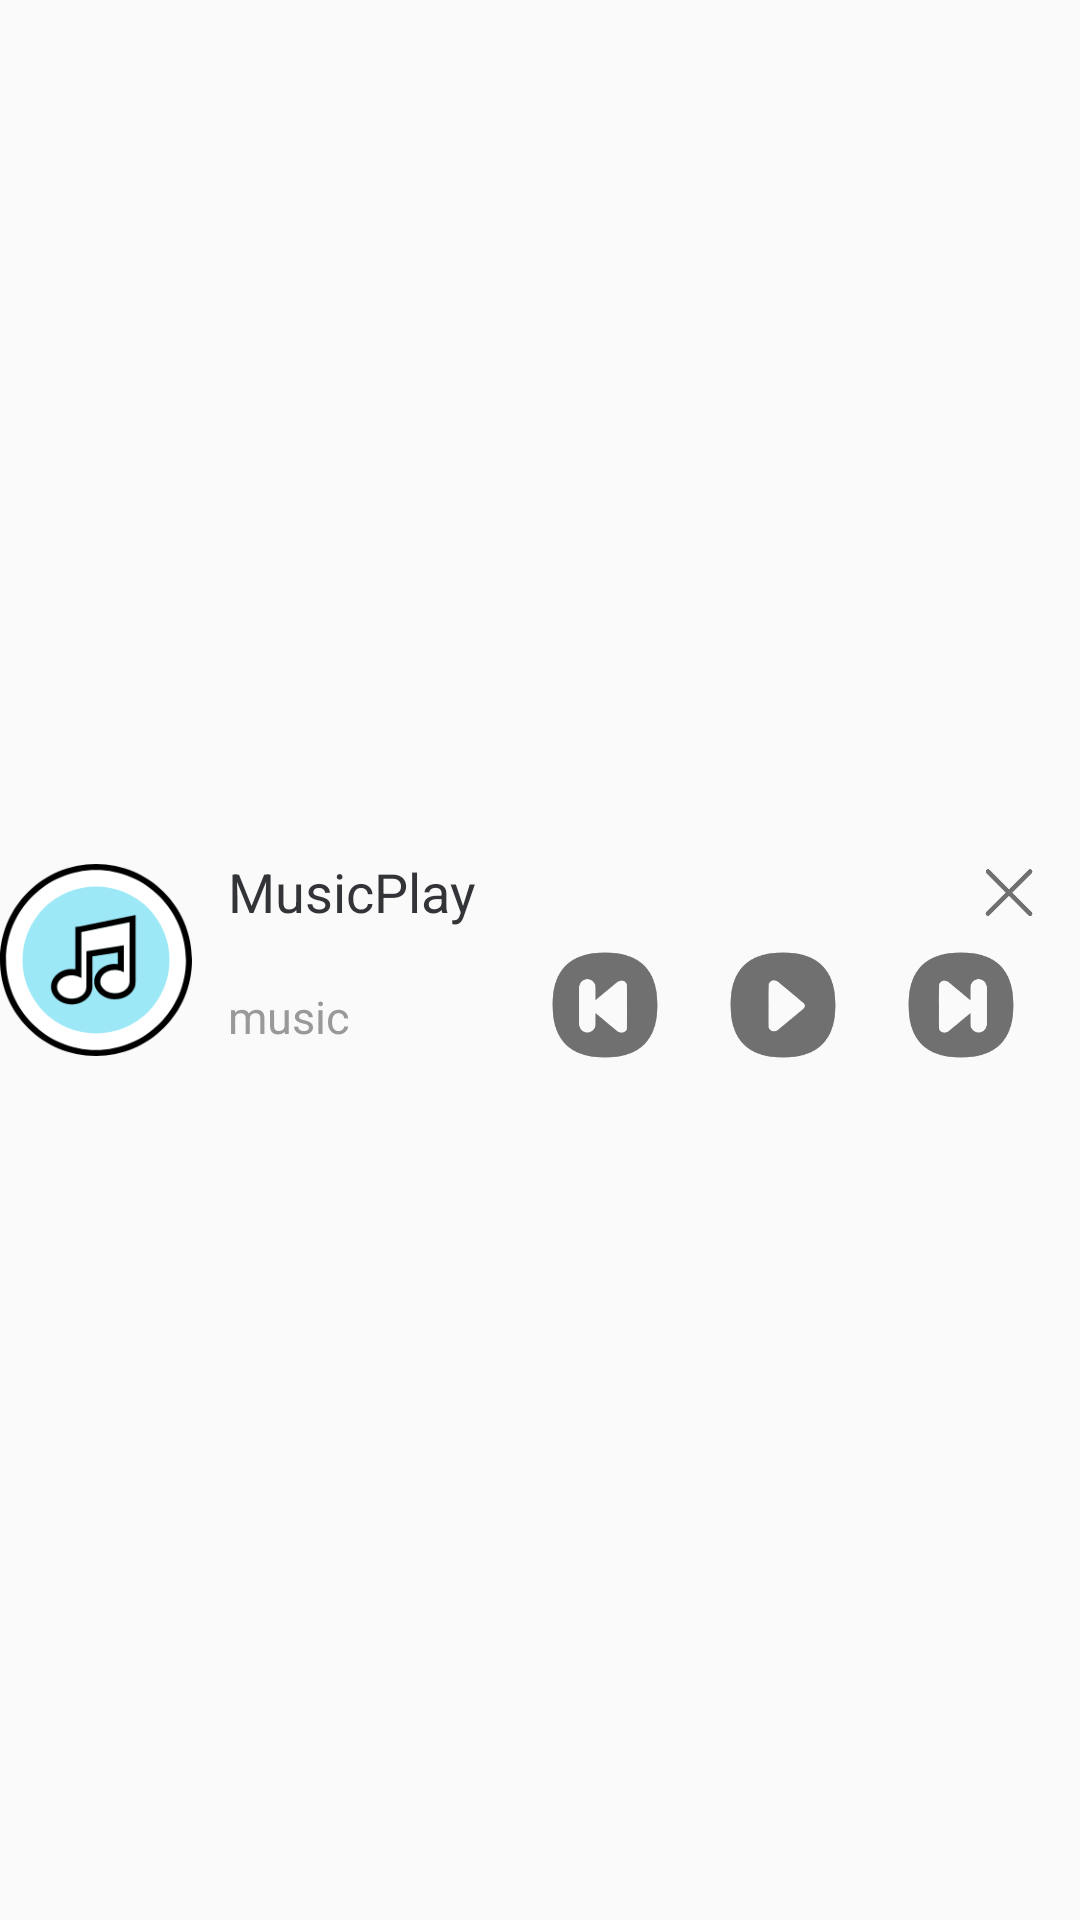

Where icons sit on this 1080×1920 app screen, as (x1, y1, x2, y2):
set notify close style: (985, 869, 1033, 916)
set notify next style: (908, 952, 1014, 1058)
set notify play style: (730, 952, 836, 1058)
set notify pre style: (552, 952, 658, 1058)
